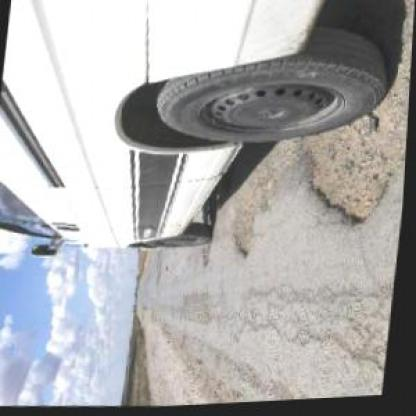pothole: (288, 94, 409, 236), (228, 188, 263, 260), (200, 242, 215, 266)
